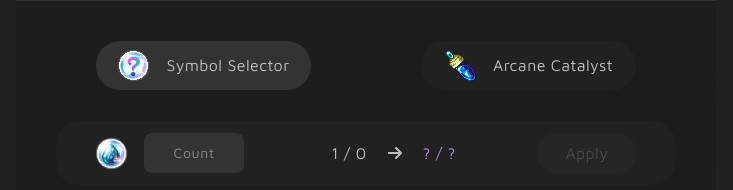
Tools — Catalyst › needs level 2 or higher
Click the button "Arcane Catalyst" at (528, 65), box [421,41,636,90]
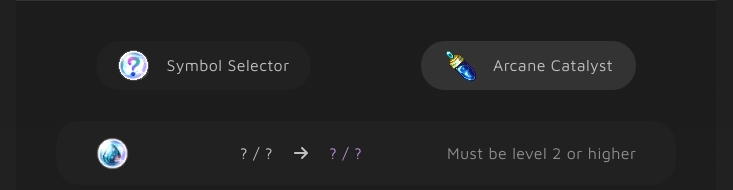
expect the text "Must be level 2 or higher" is shown: met, box [447,144,636,162]
